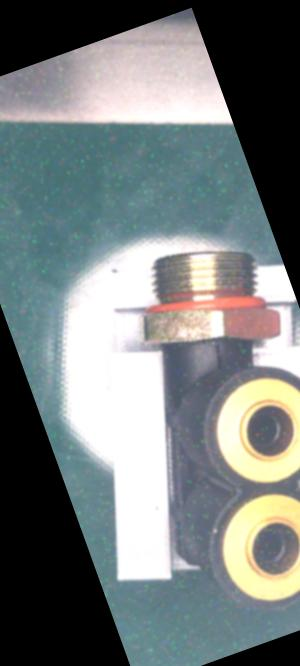craze: (199, 334, 233, 373)
